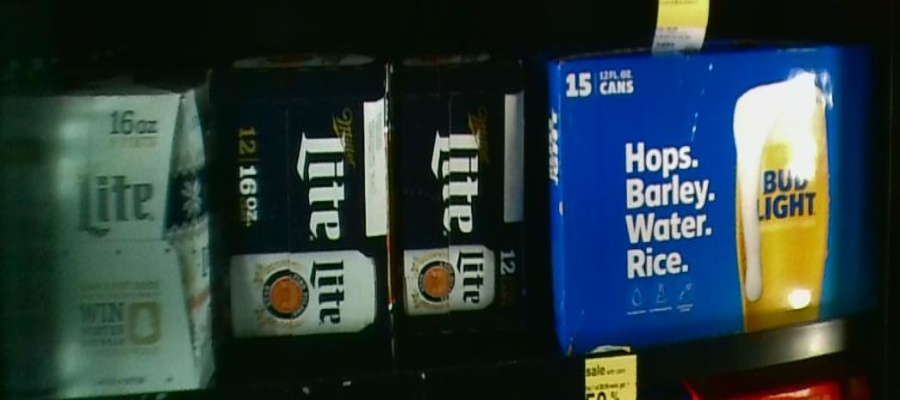bottle: (547, 41, 884, 317), (1, 75, 216, 389), (218, 49, 393, 346), (397, 53, 531, 345)
